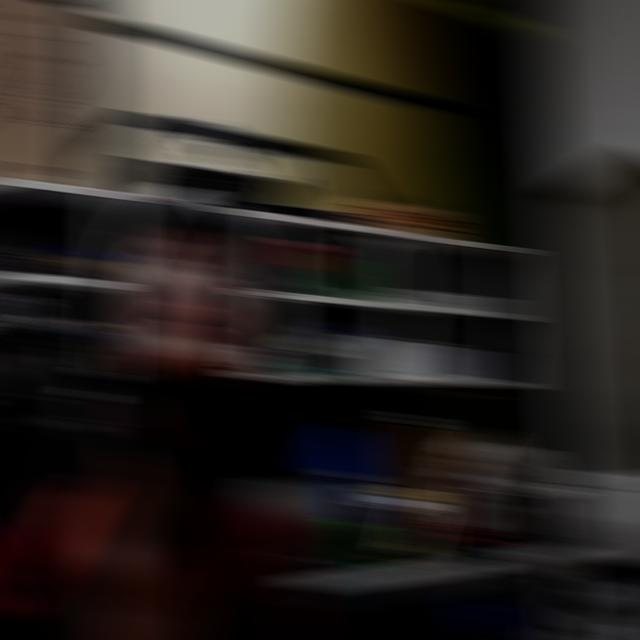With Helmet: (83, 93, 304, 523)
